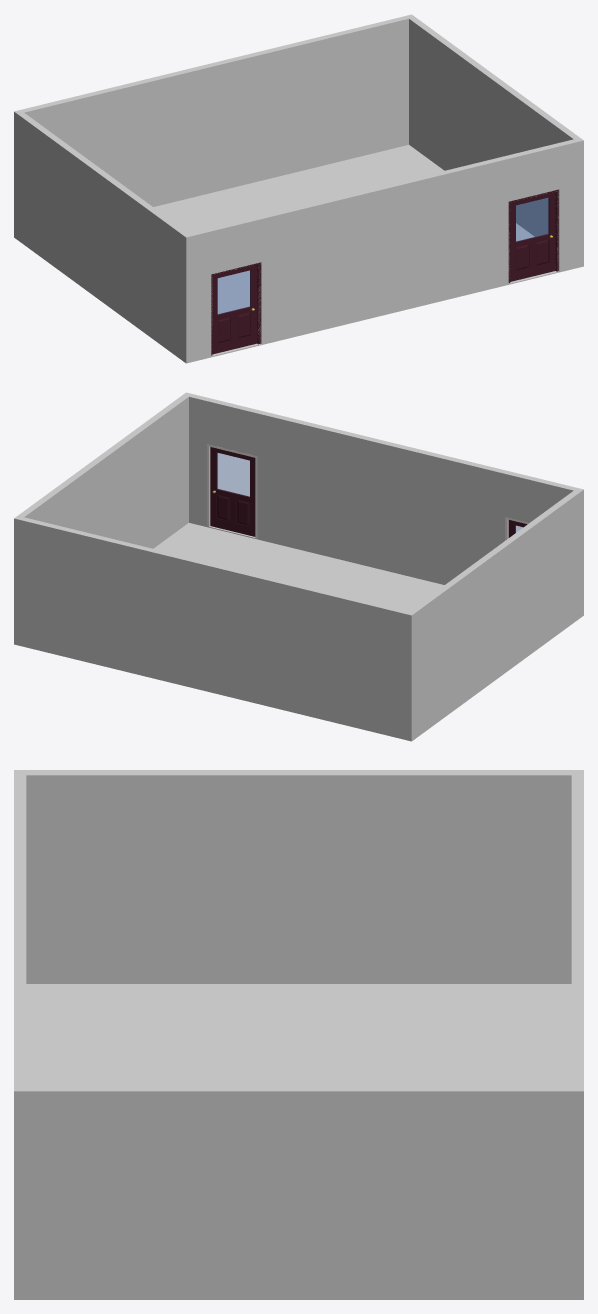
Rendered from another.dae.
3 renders of one model, top to bottom at view 1: azimuth 30°, elevation 25°; view 2: azimuth 150°, elevation 25°; view 3: azimuth 270°, elevation 25°, orthographic. The views are drawn at different scales.
Parts seen in each view (by area): view 1: SketchUp (×2), group_4 (×2), group_3 (×2), group_1 (×2); view 2: SketchUp (×2), group_4, group_3, group_2; view 3: SketchUp (×2).
Boxes of the visible parts, <box> form: SketchUp (×2): <box>14,14,583,363</box>; group_4 (×2): <box>212,192,555,354</box>; group_3 (×2): <box>218,198,548,314</box>; group_1 (×2): <box>211,189,558,355</box>; SketchUp (×2): <box>14,392,583,741</box>; group_4: <box>210,447,255,536</box>; group_3: <box>217,453,249,496</box>; group_2: <box>207,444,257,538</box>; SketchUp (×2): <box>14,770,583,1299</box>.
Size of the model in its own units: 390 by 293 by 118.
